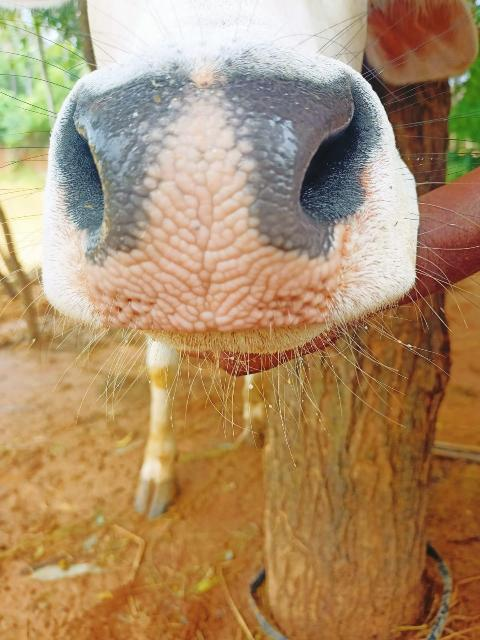Muzzle: (78, 95, 314, 317)
